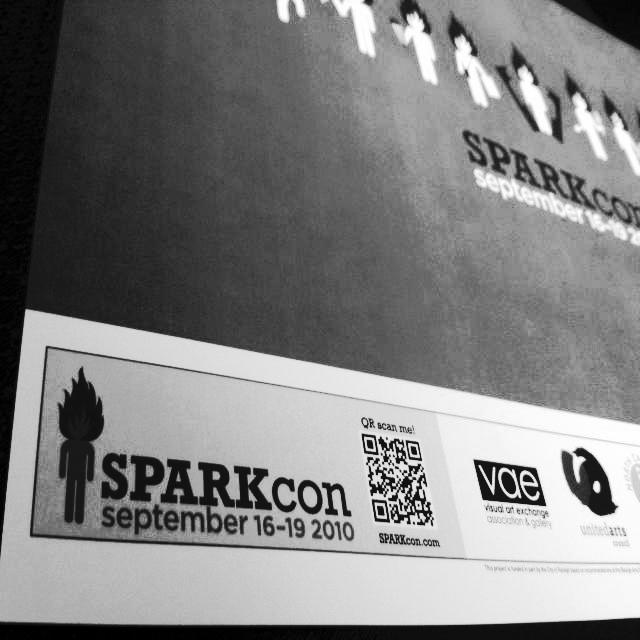qr_code: (361, 433, 436, 526)
